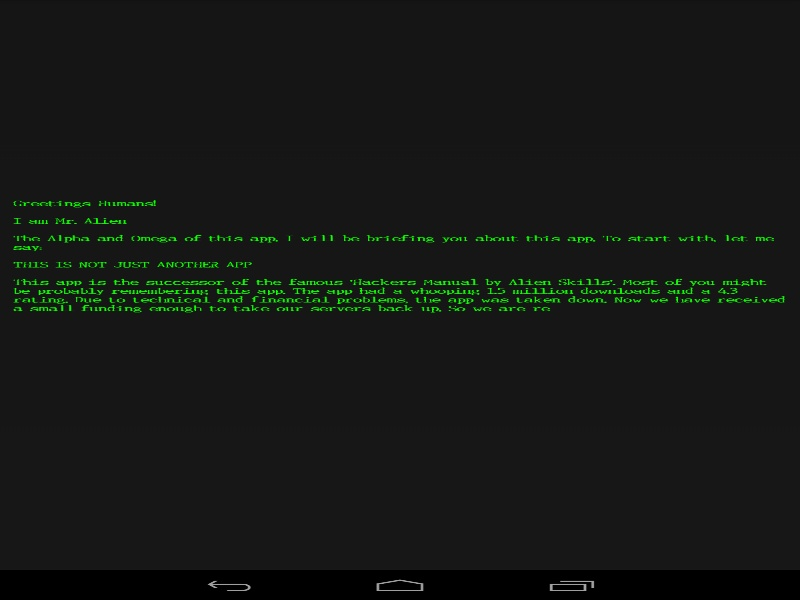Input: (13, 6, 786, 506)
